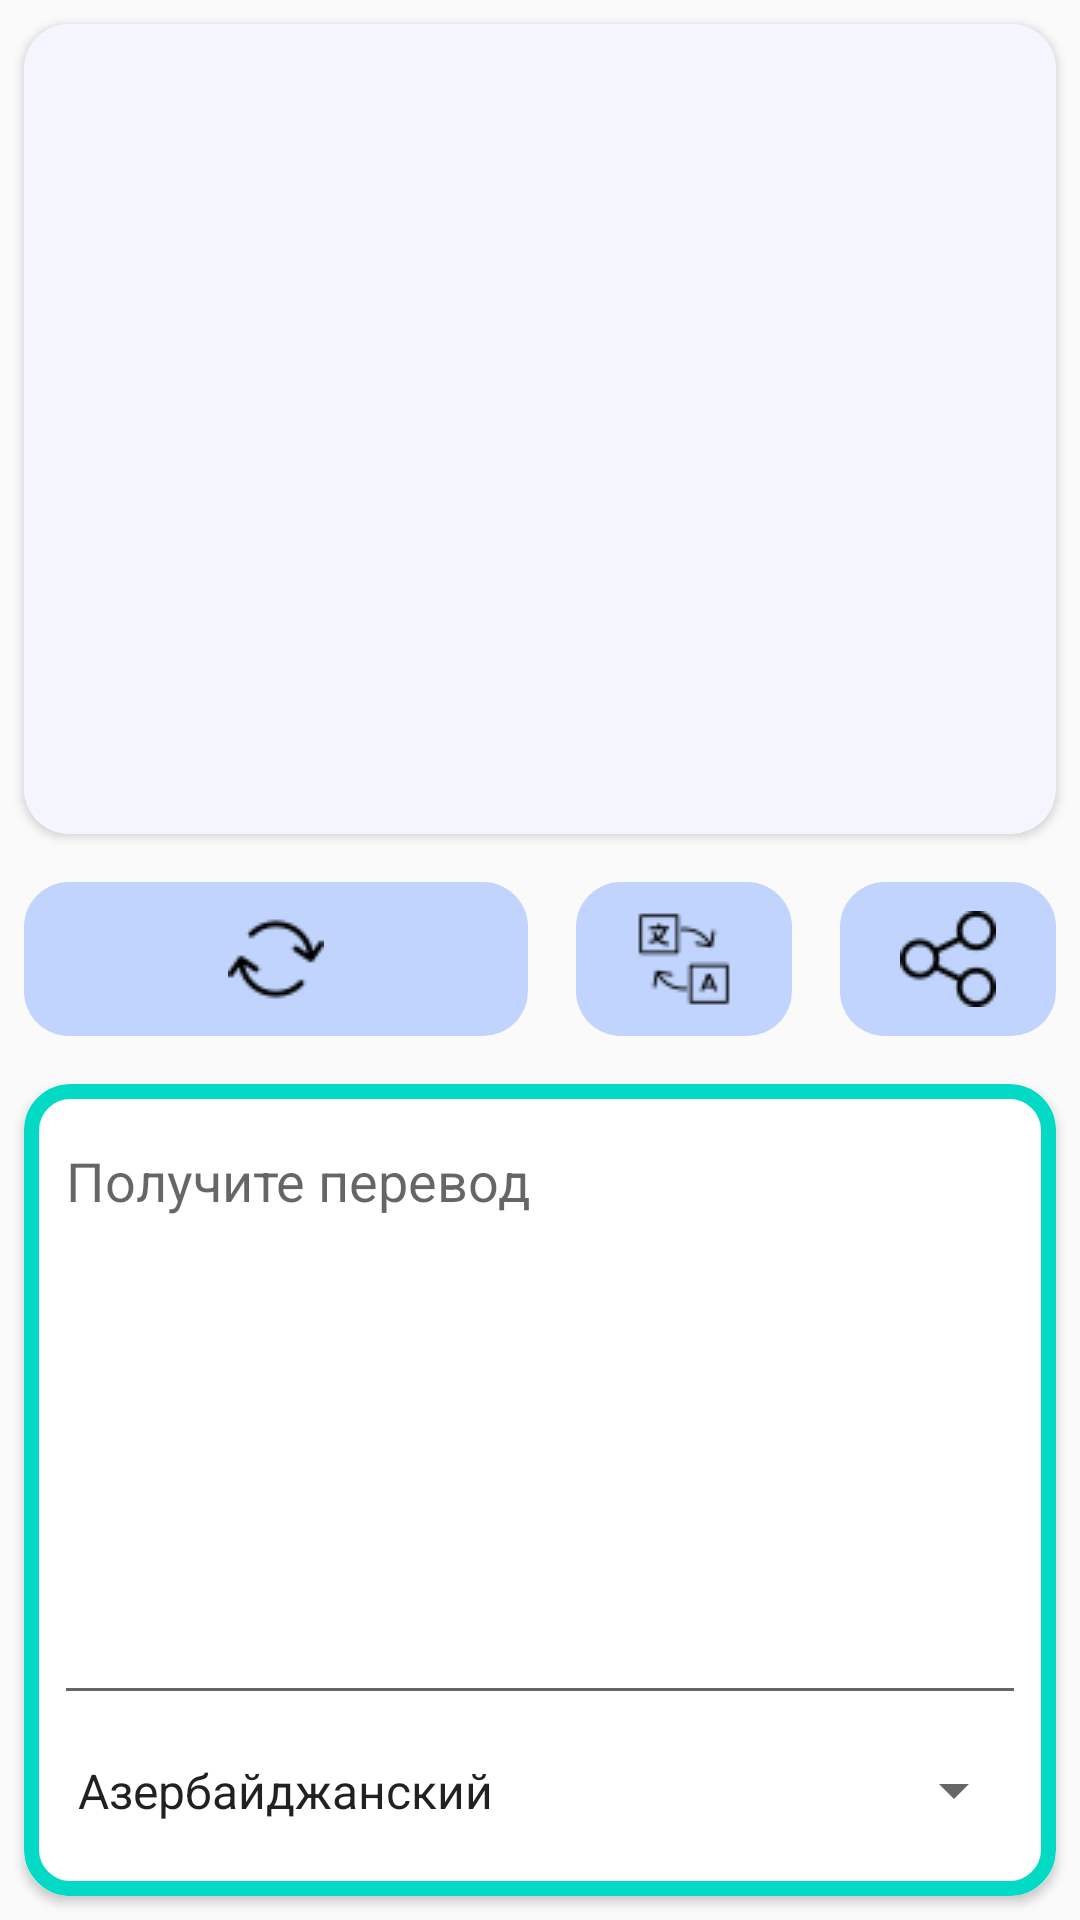

Icons on this 1080px×1920px Android screen, each with the point to tap as (x,y):
share: (948,959)
